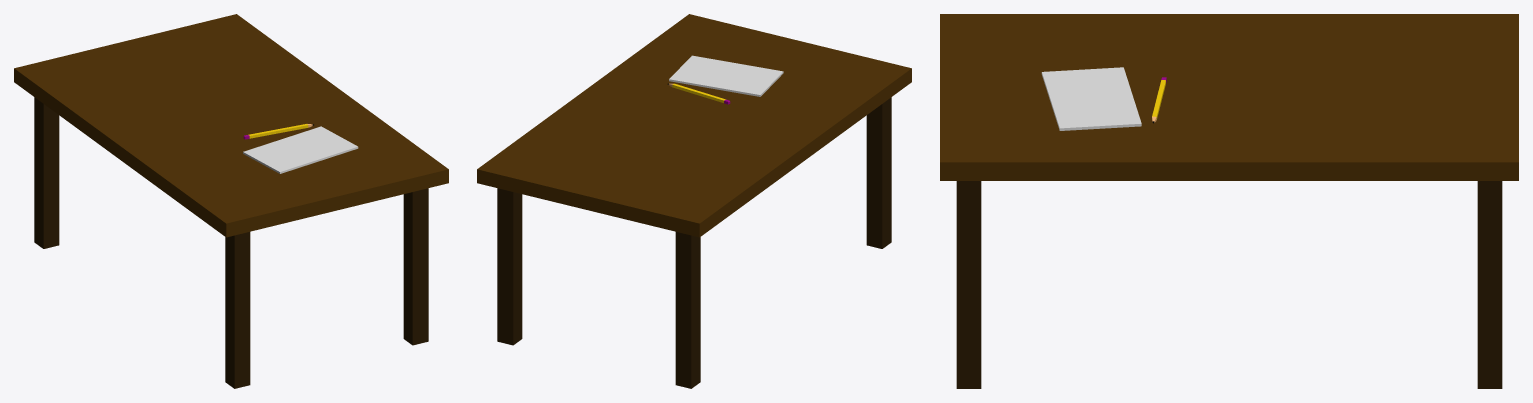
Rendered from Table.fbx.
The picture shows the model from 3 angles, left to right: view 1: azimuth 30°, elevation 25°; view 2: azimuth 150°, elevation 25°; view 3: azimuth 270°, elevation 25°; orthographic projection. The views are drawn at different scales.
Visible parts, largest first — view 1: Cube, Cube.001; view 2: Cube, Cube.001; view 3: Cube, Cube.001.
Part boxes in pixels (box(x1,y1,x2,y2)): Cube: box(14, 14, 448, 388); Cube.001: box(243, 126, 358, 173); Cube: box(477, 14, 911, 388); Cube.001: box(669, 55, 783, 96); Cube: box(940, 14, 1518, 388); Cube.001: box(1041, 67, 1141, 130).
Bounding box in the file's own units: 371 × 281 × 613.
